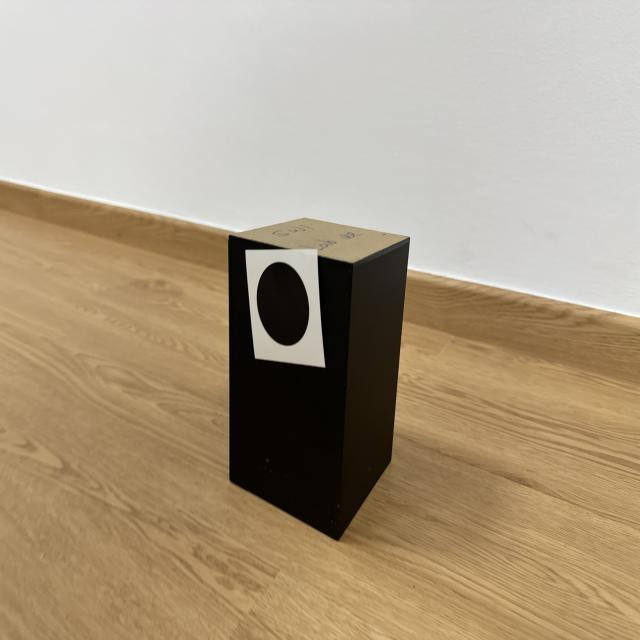CIRCLE: (258, 262, 309, 345)
